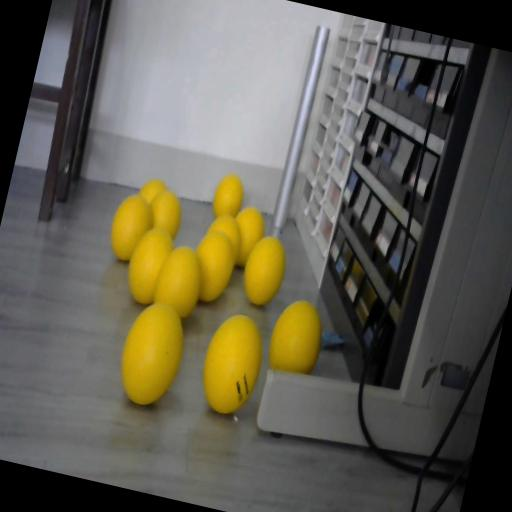FUEL: (111, 296, 192, 410), (192, 307, 272, 420), (264, 295, 330, 380), (148, 242, 210, 324), (121, 224, 178, 309), (185, 226, 242, 307), (237, 231, 293, 310), (104, 190, 158, 266), (226, 204, 270, 270), (200, 211, 247, 266), (144, 187, 188, 242), (210, 172, 248, 224), (136, 176, 168, 210)
